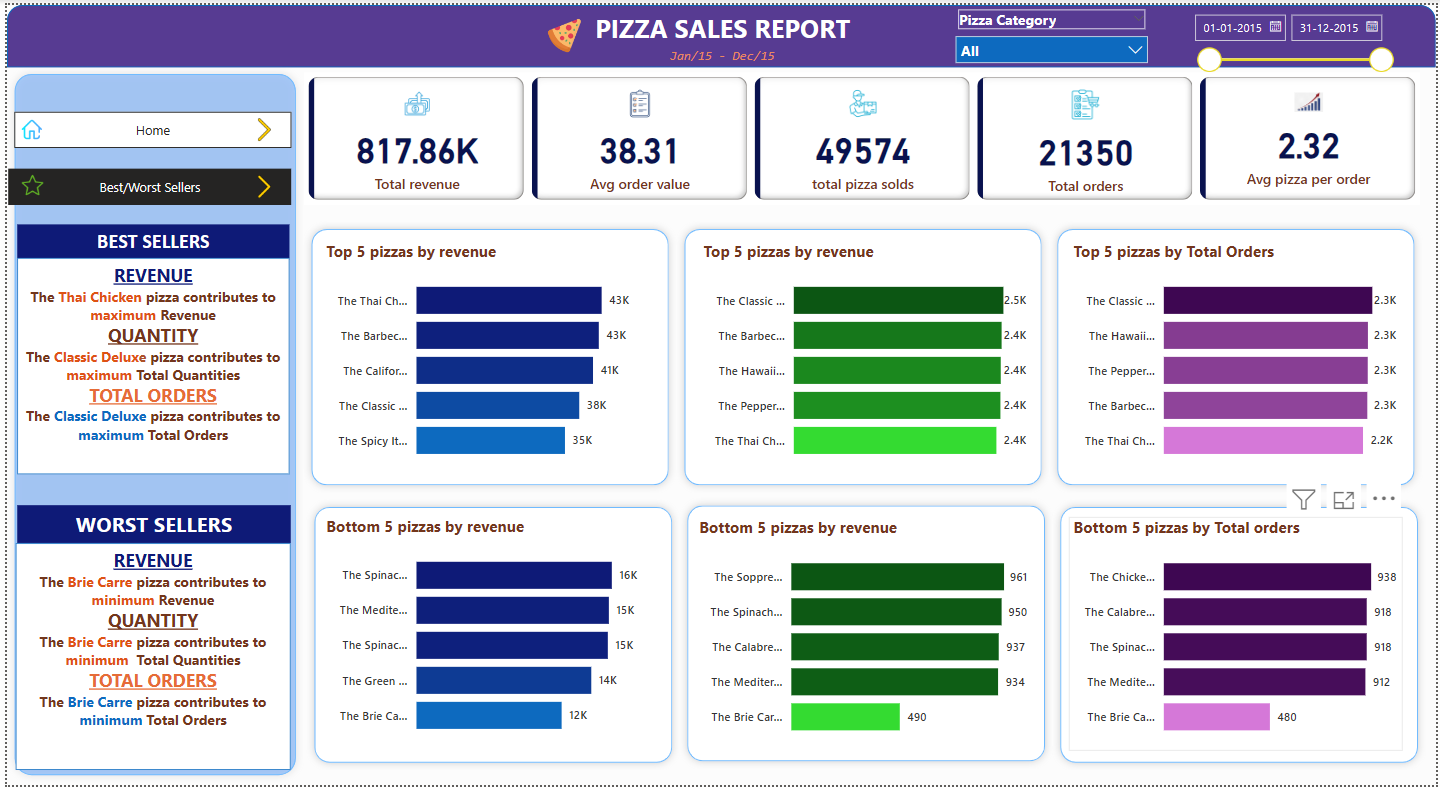

What the dashboard file says about the page in this screenshot:
{"tool":"powerbi","page":{"name":"Best/Worst Sellers","canvas":[1500,820],"ordinal":1},"visuals":[{"type":"cardVisual","fields":{"Data":["pizza_sales.Total revenue","pizza_sales.Avg order value","pizza_sales.total pizza solds","pizza_sales.Total orders","pizza_sales.Avg pizza per order"]},"box":[311.5,70.5,1172.1,139.3],"z":0},{"type":"shape","box":[0,0,1500,65.6],"z":1000},{"type":"textbox","box":[608.2,1.6,286.9,47.5],"z":2000},{"type":"textbox","box":[678.7,37.7,144.3,32.8],"z":3000},{"type":"image","box":[552.5,9.8,65.6,45.9],"z":4000},{"type":"shape","box":[311.3,226.8,391,285],"z":5000},{"type":"shape","box":[0,64.8,311.3,752.1],"z":6000},{"type":"textbox","box":[11.3,229.6,285.9,36.6],"z":7000},{"type":"textbox","box":[11.3,266.2,285.9,226.8],"z":8000},{"type":"textbox","box":[11.3,525.4,287.3,39.4],"z":9000},{"type":"textbox","box":[9.9,564.8,288.7,238],"z":10000},{"type":"slicer","fields":{"Values":["pizza_sales.pizza_category"]},"box":[986.3,0,221.9,63],"z":11000},{"type":"slicer","fields":{"Values":["pizza_sales.order_date"]},"box":[1234.2,0,230.1,89],"z":12000},{"type":"shape","box":[702.8,226.8,391,285],"z":13000},{"type":"shape","box":[1094.4,226.8,391,285],"z":14000},{"type":"shape","box":[705.6,516.9,391.5,284.5],"z":15000},{"type":"shape","box":[314.1,518.3,391.5,284.5],"z":16000},{"type":"shape","box":[1097.2,518.3,391.5,284.5],"z":17000},{"type":"barChart","title":"Top 5 pizzas by revenue","fields":{"Category":["pizza_sales.pizza_name"],"Y":["pizza_sales.Total revenue"]},"box":[329.6,247.9,349.3,245.1],"z":18000},{"type":"barChart","title":"Bottom 5 pizzas by revenue","fields":{"Category":["pizza_sales.pizza_name"],"Y":["pizza_sales.Total revenue"]},"box":[329.6,536.6,349.3,245.1],"z":19000},{"type":"barChart","title":"Top 5 pizzas by revenue","fields":{"Category":["pizza_sales.pizza_name"],"Y":["pizza_sales.total pizza solds"]},"box":[726.8,246.5,349.3,245.1],"z":20000},{"type":"barChart","title":"Bottom 5 pizzas by revenue","fields":{"Category":["pizza_sales.pizza_name"],"Y":["pizza_sales.total pizza solds"]},"box":[721.1,538,354.9,245.1],"z":21000},{"type":"barChart","title":"Top 5 pizzas by Total Orders","fields":{"Category":["pizza_sales.pizza_name"],"Y":["pizza_sales.Total orders"]},"box":[1115.5,246.5,349.3,245.1],"z":22000},{"type":"barChart","title":"Bottom 5 pizzas by Total orders","fields":{"Category":["pizza_sales.pizza_name"],"Y":["pizza_sales.Total orders"]},"box":[1115.5,538,349.3,245.1],"z":23000},{"type":"pageNavigator","box":[7,112.7,291.5,38],"z":24000},{"type":"pageNavigator","box":[1.4,171.8,297.2,38],"z":25000},{"type":"image","box":[253.5,112.7,33.8,38],"z":26000},{"type":"image","box":[11.3,109.9,31,40.8],"z":27000},{"type":"image","box":[253.5,171.8,33.8,38],"z":28000},{"type":"image","box":[11.3,169,32.4,40.8],"z":29000}]}

Visuals, with their boxes in screenshot pixels (x1, y1, x2, y2), scaled from the page's 1500x820 canvas onto the 1440x787 screenshot:
cardVisual - pizza_sales.Total revenue x pizza_sales.Avg order value: box(299, 68, 1424, 201)
shape: box(0, 0, 1439, 63)
textbox: box(584, 2, 859, 47)
textbox: box(652, 36, 790, 68)
image: box(530, 9, 593, 53)
shape: box(299, 218, 674, 491)
shape: box(0, 62, 299, 784)
textbox: box(11, 220, 285, 255)
textbox: box(11, 255, 285, 473)
textbox: box(11, 504, 287, 542)
textbox: box(10, 542, 287, 770)
slicer - pizza_sales.pizza_category: box(947, 0, 1160, 60)
slicer - pizza_sales.order_date: box(1185, 0, 1406, 85)
shape: box(675, 218, 1050, 491)
shape: box(1051, 218, 1426, 491)
shape: box(677, 496, 1053, 769)
shape: box(302, 497, 677, 770)
shape: box(1053, 497, 1429, 770)
"Top 5 pizzas by revenue" barChart: box(316, 238, 652, 473)
"Bottom 5 pizzas by revenue" barChart: box(316, 515, 652, 750)
"Top 5 pizzas by revenue" barChart: box(698, 237, 1033, 472)
"Bottom 5 pizzas by revenue" barChart: box(692, 516, 1033, 752)
"Top 5 pizzas by Total Orders" barChart: box(1071, 237, 1406, 472)
"Bottom 5 pizzas by Total orders" barChart: box(1071, 516, 1406, 752)
pageNavigator: box(7, 108, 287, 145)
pageNavigator: box(1, 165, 287, 201)
image: box(243, 108, 276, 145)
image: box(11, 105, 41, 145)
image: box(243, 165, 276, 201)
image: box(11, 162, 42, 201)
